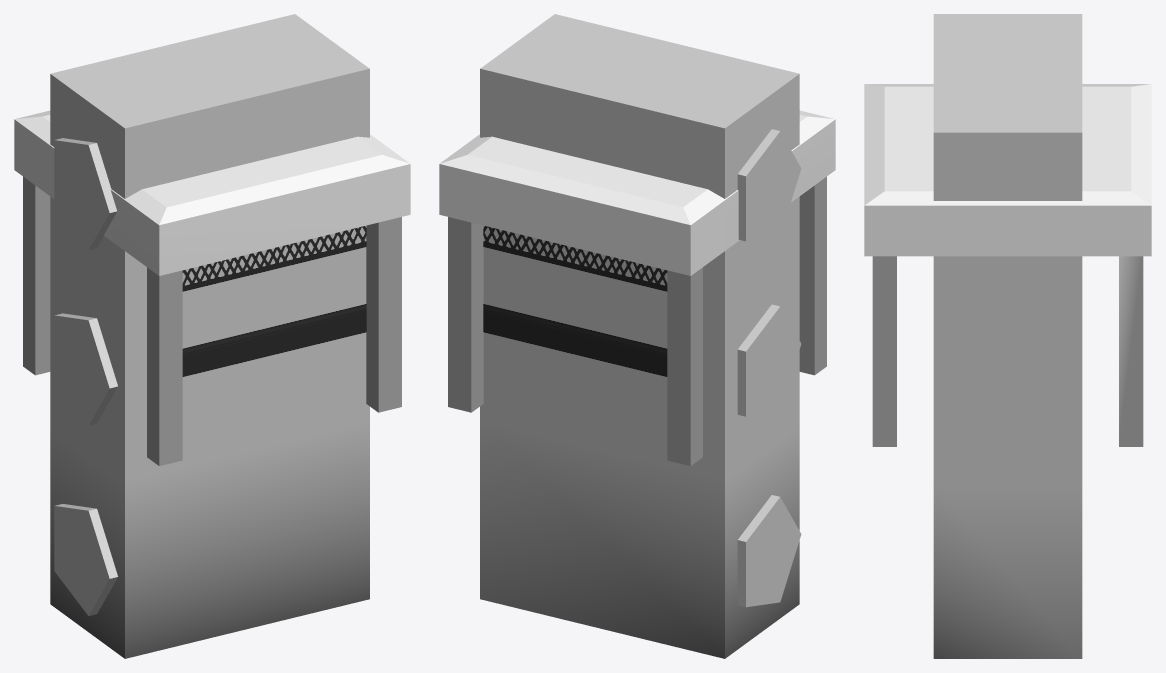
Rendered from SlideObjAc.fbx.
3 renders of one model, left to right at view 1: azimuth 30°, elevation 25°; view 2: azimuth 150°, elevation 25°; view 3: azimuth 270°, elevation 25°, orthographic.
Visible parts, largest first — view 1: SlideObs2 (A.C 2), SlideObs2 (A.C 2).001, SlideObs2 (A.C 2)Grid; view 2: SlideObs2 (A.C 2), SlideObs2 (A.C 2).001, SlideObs2 (A.C 2)Grid; view 3: SlideObs2 (A.C 2), SlideObs2 (A.C 2).001.
Boxes of the visible parts, <box> form: SlideObs2 (A.C 2): <box>50,14,369,658</box>; SlideObs2 (A.C 2).001: <box>14,110,410,465</box>; SlideObs2 (A.C 2)Grid: <box>182,226,366,376</box>; SlideObs2 (A.C 2): <box>480,14,801,658</box>; SlideObs2 (A.C 2).001: <box>439,110,835,465</box>; SlideObs2 (A.C 2)Grid: <box>483,226,667,376</box>; SlideObs2 (A.C 2): <box>933,14,1082,658</box>; SlideObs2 (A.C 2).001: <box>864,84,1151,446</box>.
Bounding box in the file's own units: 102 × 200 × 99.01.
